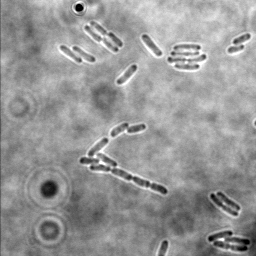microcolony: (76, 119, 167, 193), (81, 20, 122, 53), (203, 224, 248, 250), (167, 43, 207, 72), (205, 187, 239, 215)
rod: (137, 31, 161, 57), (113, 62, 137, 85), (69, 43, 96, 63), (58, 43, 82, 64), (227, 30, 249, 45), (222, 43, 243, 54)
